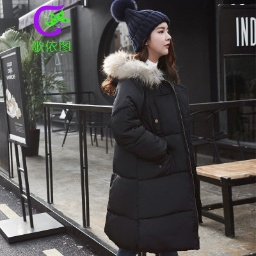face: (143, 21, 177, 58)
